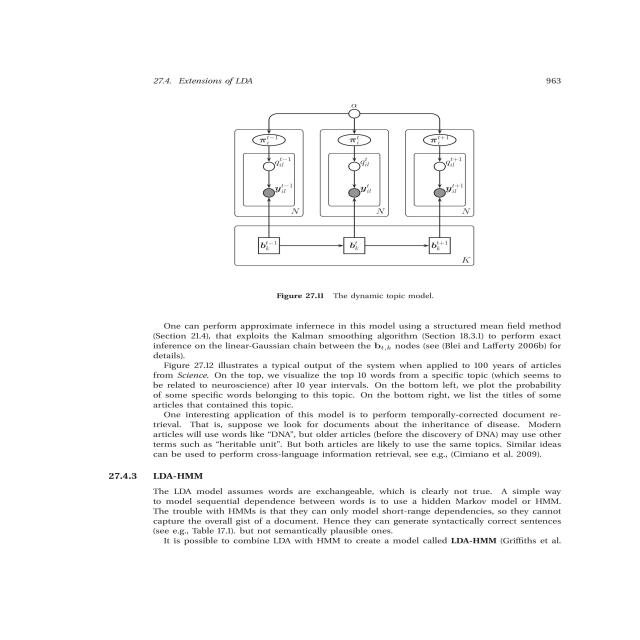diagram: (106, 99, 598, 310)
